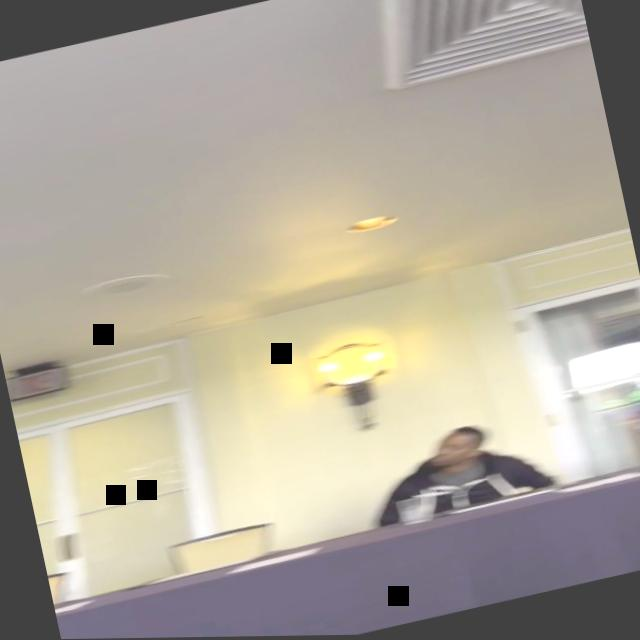NO-Mask: (429, 429, 480, 470)
